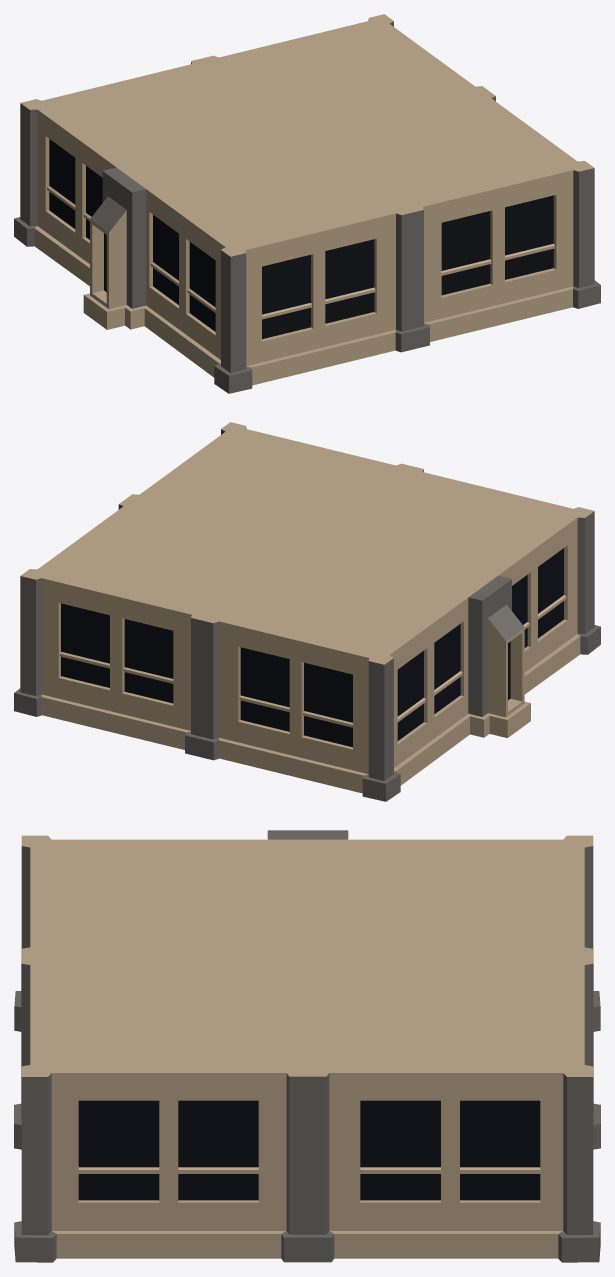
The model's file is buildingB3.obj.
3 views of the same model, one above another, from view 1: azimuth 30°, elevation 25°; view 2: azimuth 150°, elevation 25°; view 3: azimuth 270°, elevation 25° (orthographic). The views are drawn at different scales.
Parts seen in each view (by area): view 1: Cube.024_Cube.008; view 2: Cube.024_Cube.008; view 3: Cube.024_Cube.008.
Boxes of the visible parts, x1=… form: Cube.024_Cube.008: x1=14, y1=14, x2=600, y2=393; Cube.024_Cube.008: x1=14, y1=422, x2=600, y2=801; Cube.024_Cube.008: x1=14, y1=830, x2=600, y2=1262.
Bounding box in the file's own units: 9.85 × 3.17 × 9.25.
